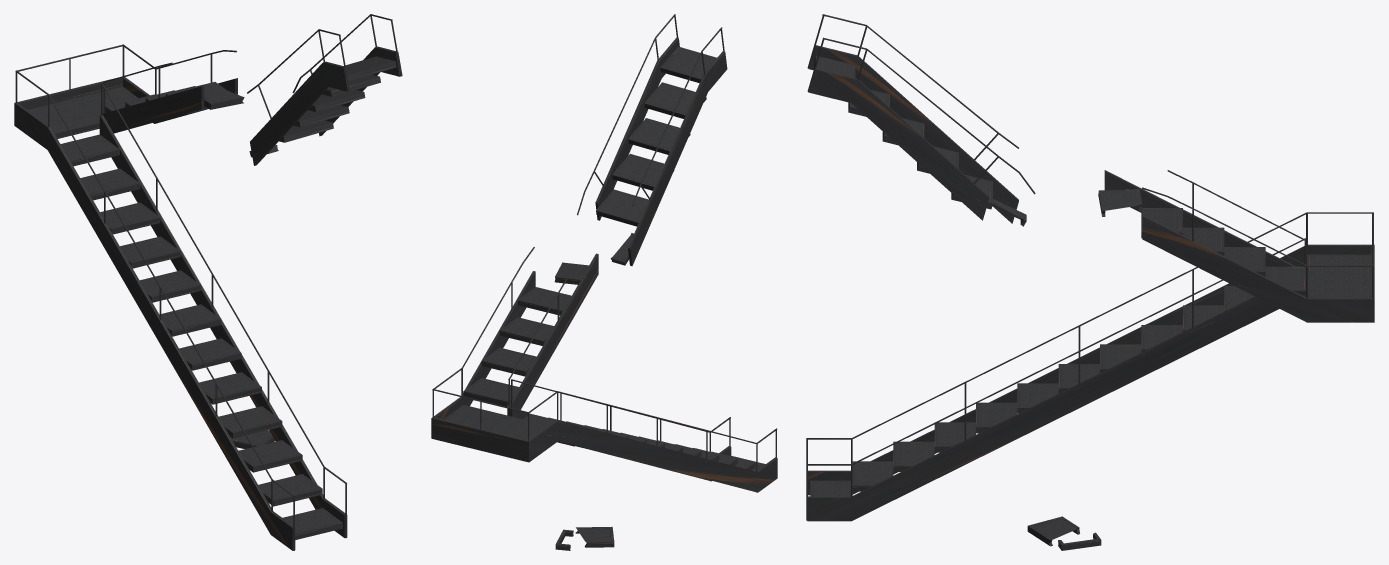
The model's file is OfficeStairs.fbx.
3 renders of one model, left to right at view 1: azimuth 30°, elevation 25°; view 2: azimuth 150°, elevation 25°; view 3: azimuth 270°, elevation 25°, orthographic. The views are drawn at different scales.
Parts seen in each view (by area): view 1: SM_Office_Stairs; view 2: SM_Office_Stairs; view 3: SM_Office_Stairs.
Part boxes in pixels (x1,y1,x2,y2): SM_Office_Stairs: [14, 14, 402, 550]; SM_Office_Stairs: [431, 14, 777, 550]; SM_Office_Stairs: [806, 14, 1374, 550].
Size of the model in its own units: 2111 by 8814 by 8718.
2 materials, 2 textured.
